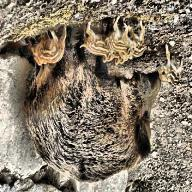boar: (20, 40, 167, 178), (23, 17, 67, 69), (153, 48, 186, 92), (80, 21, 112, 63), (110, 21, 140, 55)
